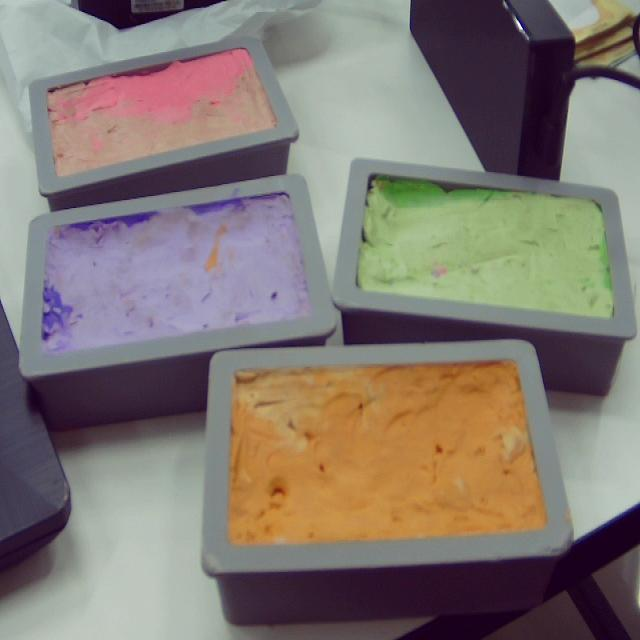block: (197, 336, 572, 625), (18, 172, 340, 430), (334, 157, 637, 398), (26, 37, 302, 214)
